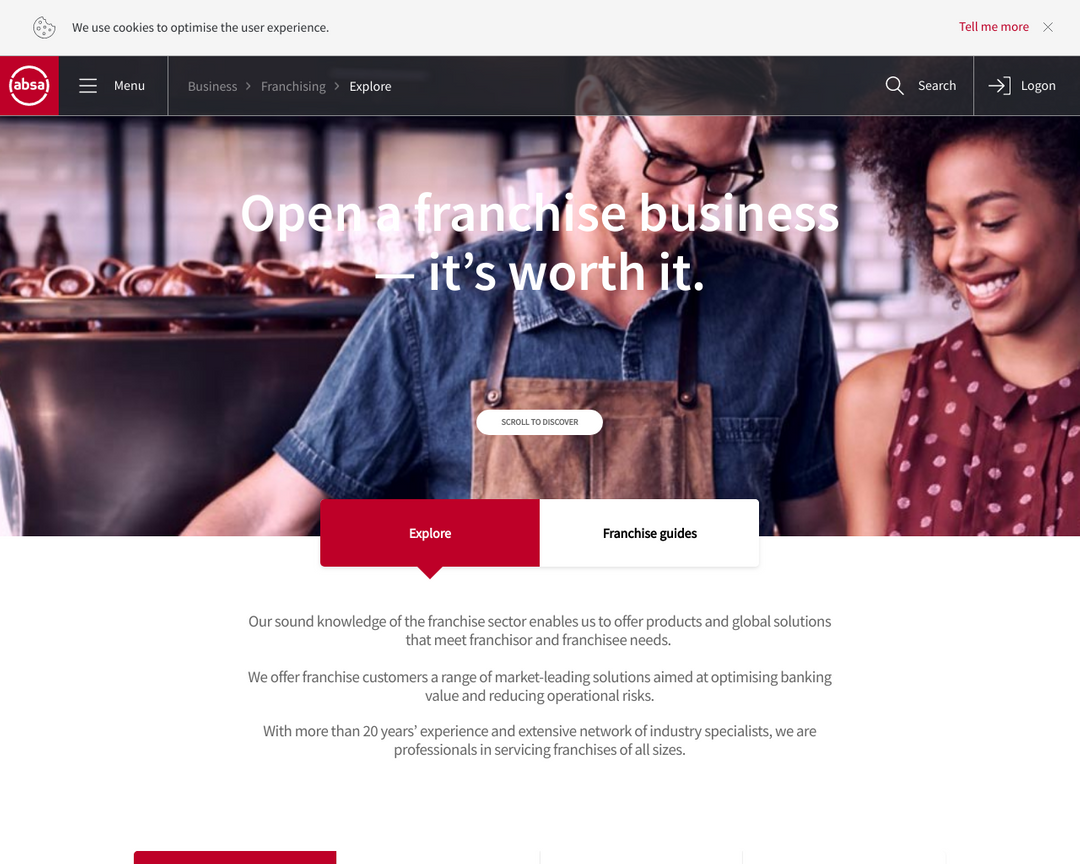ABSA: (8, 64, 52, 108)
